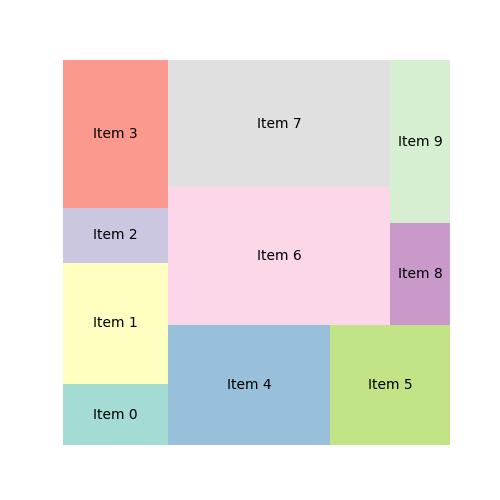rectangle: (166, 186, 392, 326), (168, 61, 391, 185), (168, 326, 329, 444), (63, 60, 167, 210), (330, 327, 451, 445), (64, 262, 168, 382), (391, 61, 449, 224), (64, 382, 167, 444), (390, 226, 450, 324), (66, 210, 166, 262)
